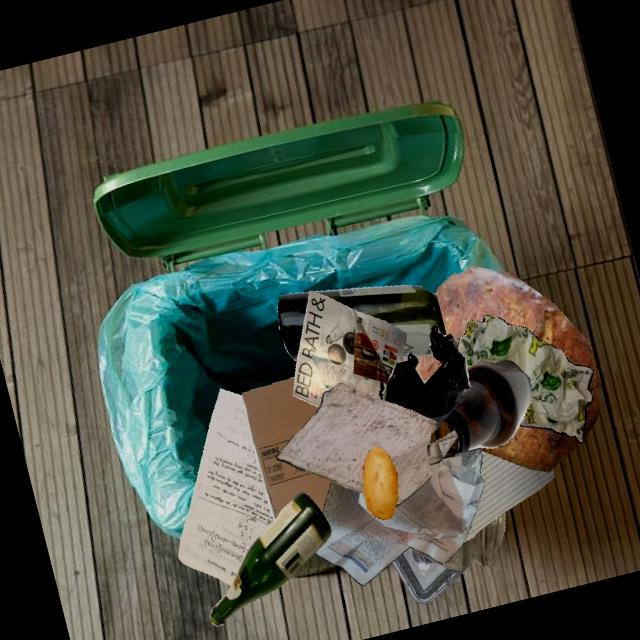biowaste: (435, 266, 601, 439), (424, 296, 566, 434), (362, 446, 397, 519)
cardboard: (241, 376, 331, 521), (429, 441, 429, 441)
glass: (209, 491, 331, 626), (429, 359, 531, 458), (312, 284, 446, 356), (409, 511, 505, 570), (277, 291, 309, 360)
paper: (315, 448, 484, 585), (276, 382, 457, 505), (178, 388, 273, 585), (457, 315, 593, 443), (293, 290, 406, 407), (463, 447, 555, 541)
plastic: (383, 324, 470, 429), (391, 547, 474, 604), (403, 356, 407, 360)
